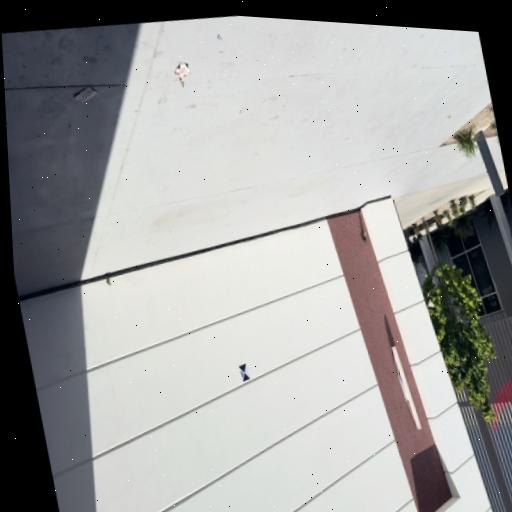target4: (239, 363, 251, 382)
